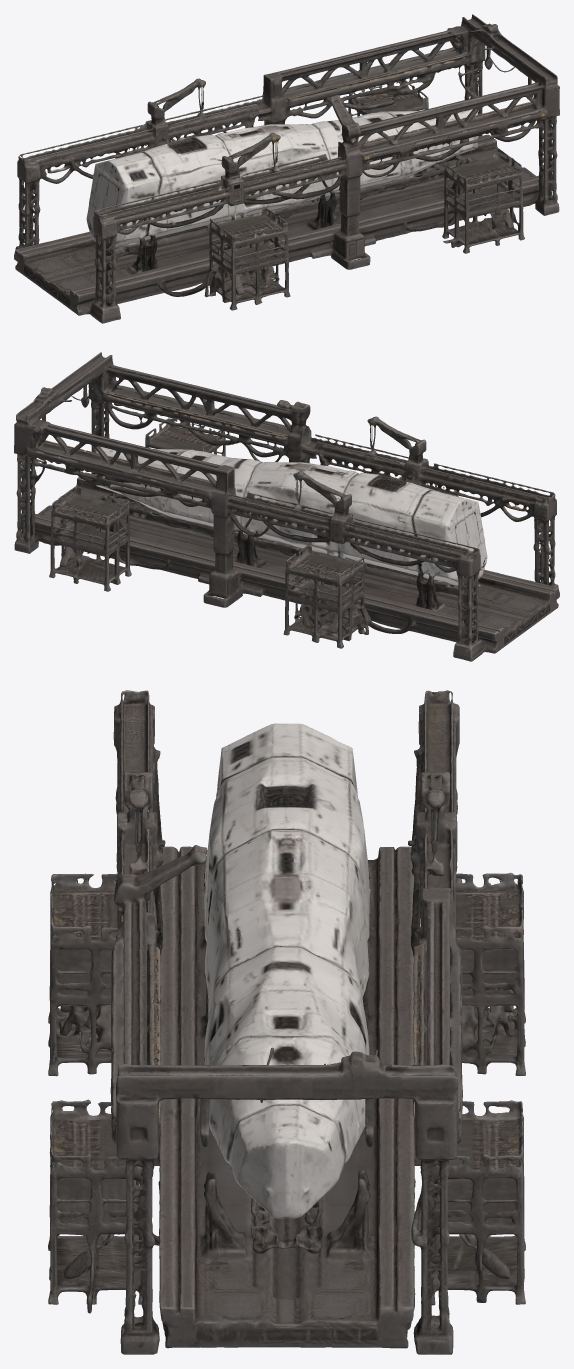
The model's file is repairYard.glb.
3 views of the same model, one above another, from view 1: azimuth 30°, elevation 25°; view 2: azimuth 150°, elevation 25°; view 3: azimuth 270°, elevation 25° (orthographic). The views are drawn at different scales.
Size of the model in its own units: 1.9 by 0.592 by 0.8306.
1 material, 1 textured.
